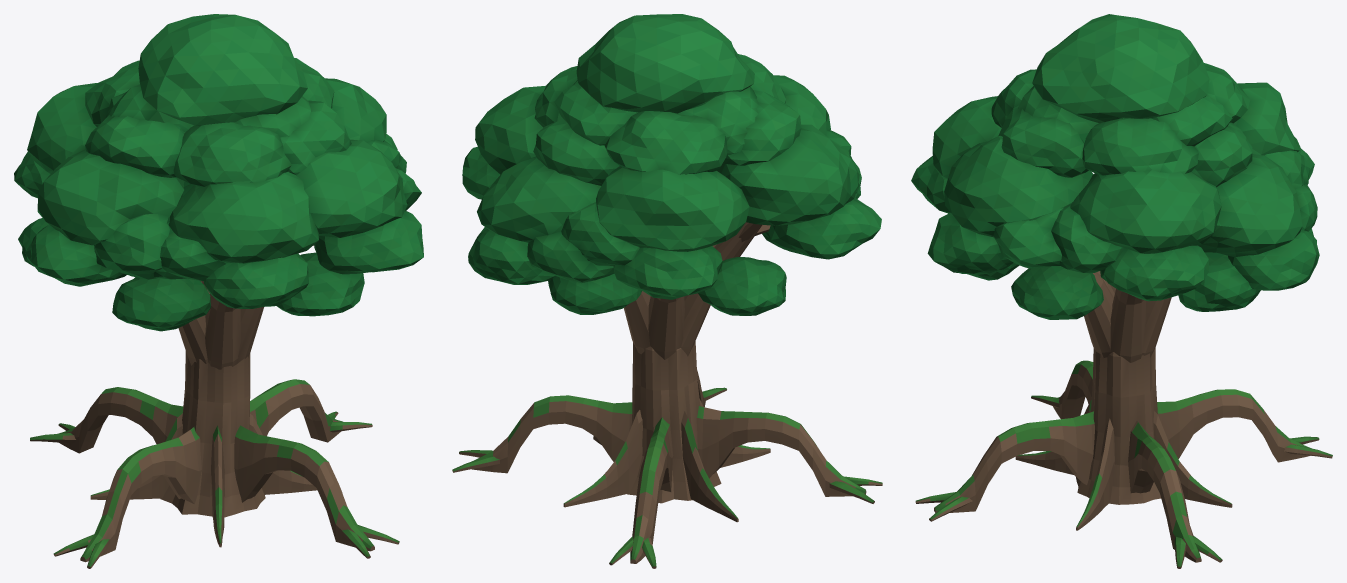
File: tree_ancient.glb
3 views of the same model, side by side, from view 1: azimuth 30°, elevation 25°; view 2: azimuth 150°, elevation 25°; view 3: azimuth 270°, elevation 25° (orthographic). The views are drawn at different scales.
Size of the model in its own units: 35.28 by 40.78 by 33.89.
